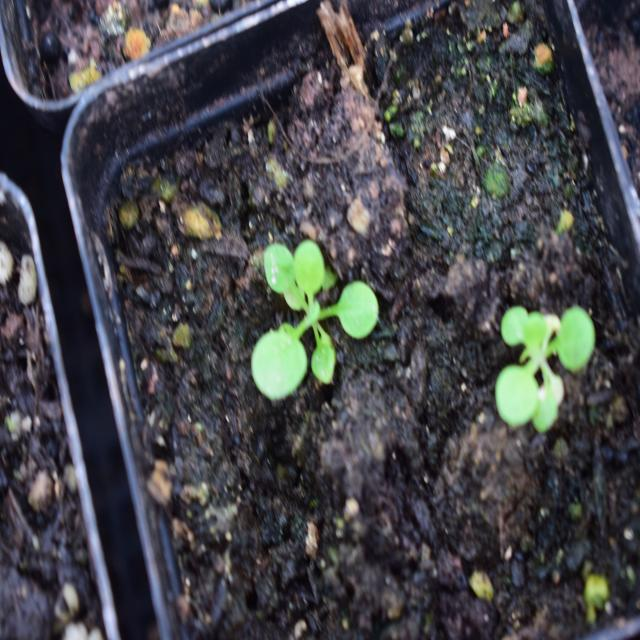Shepherd_Purse: (249, 232, 399, 412)
